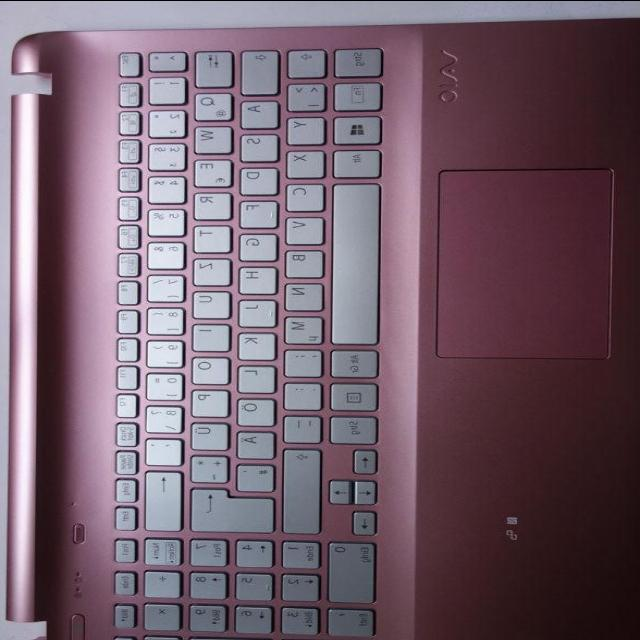0: (141, 369, 180, 397)
1: (144, 73, 183, 101)
2: (144, 106, 183, 135)
3: (144, 139, 183, 168)
4: (143, 172, 182, 200)
5: (143, 205, 182, 233)
6: (142, 238, 181, 266)
7: (142, 271, 182, 299)
8: (142, 304, 181, 332)
9: (142, 336, 180, 365)
a: (235, 97, 275, 125)
accent: (141, 435, 179, 463)
ae: (232, 428, 272, 456)
alt-left: (328, 146, 378, 175)
altgr-right: (326, 347, 375, 375)
b: (280, 245, 320, 274)
c: (281, 180, 321, 208)
caret: (144, 48, 183, 68)
comma: (279, 345, 319, 374)
d: (234, 163, 276, 191)
del: (140, 467, 179, 527)
e: (189, 156, 229, 184)
enter: (184, 484, 271, 529)
f: (234, 196, 274, 224)
g: (233, 229, 275, 257)
h: (233, 263, 273, 291)
hash: (231, 461, 271, 489)
i: (188, 320, 227, 348)
j: (233, 295, 273, 323)
k: (232, 329, 272, 357)
keyboard: (85, 30, 401, 640)
l: (232, 362, 272, 390)
less: (281, 79, 323, 109)
m: (279, 311, 321, 341)
minus: (279, 411, 318, 440)
n: (279, 279, 319, 307)
o: (186, 353, 225, 381)
oe: (232, 395, 272, 423)
p: (186, 385, 225, 413)
plus: (185, 452, 225, 480)
point: (279, 379, 318, 407)
q: (188, 88, 230, 118)
r: (189, 188, 229, 216)
s: (235, 130, 275, 158)
shift-left: (282, 45, 322, 74)
shift-lock: (235, 46, 275, 92)
shift-right: (277, 445, 317, 531)
space: (326, 179, 377, 340)
ss: (141, 402, 180, 430)
strg-left: (329, 44, 379, 74)
strg-right: (325, 413, 375, 442)
t: (189, 221, 228, 249)
tab: (190, 46, 230, 84)
u: (188, 288, 227, 316)
ue: (185, 419, 227, 447)
v: (280, 213, 320, 241)
w: (188, 122, 230, 151)
x: (281, 147, 321, 175)
y: (281, 113, 323, 142)
z: (188, 255, 228, 283)
